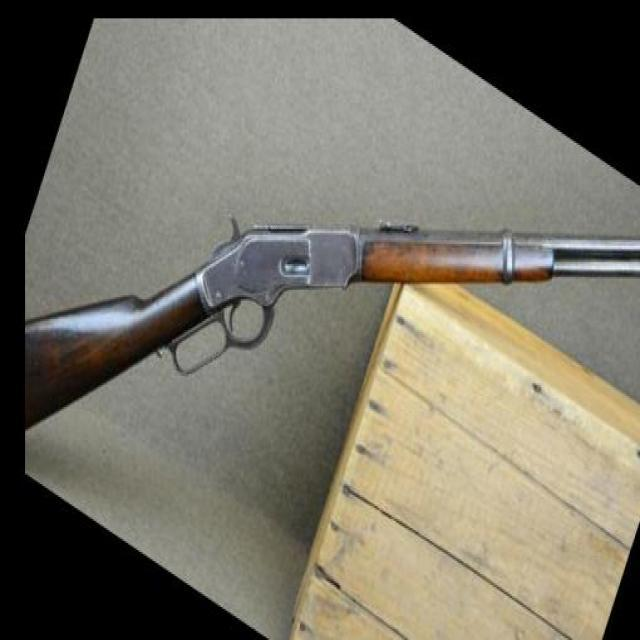weapon: (26, 212, 640, 430)
